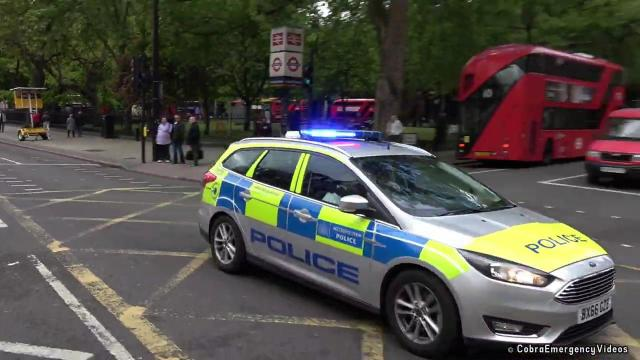police_car: (198, 128, 619, 344)
